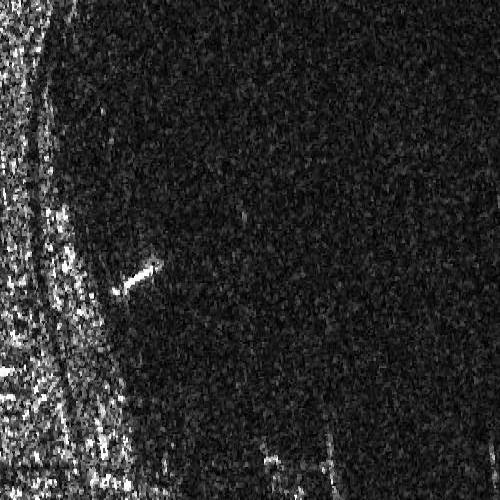ship: (111, 257, 165, 296)
